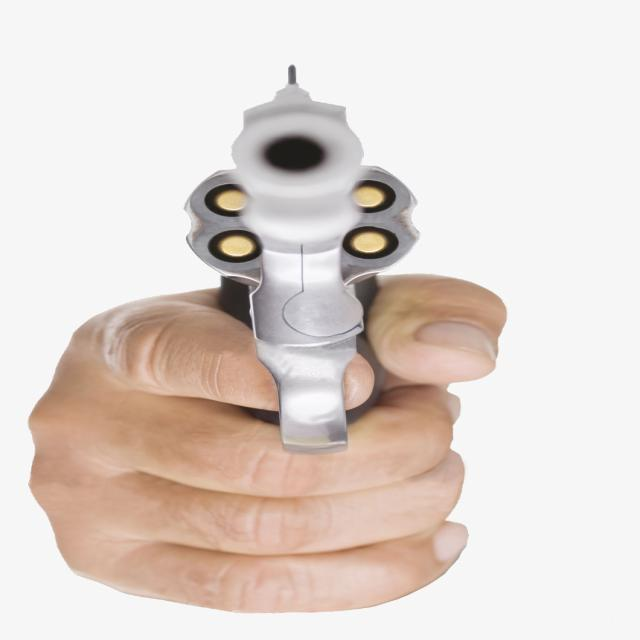guns: (190, 61, 418, 448)
